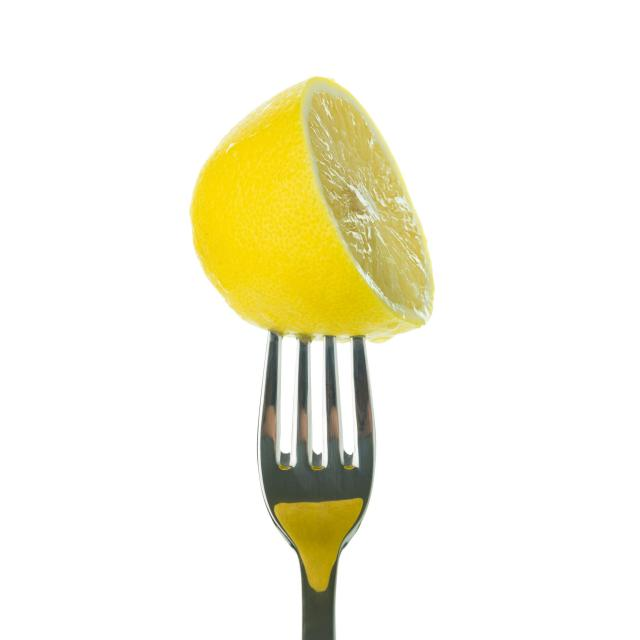lemon: (186, 72, 440, 344)
